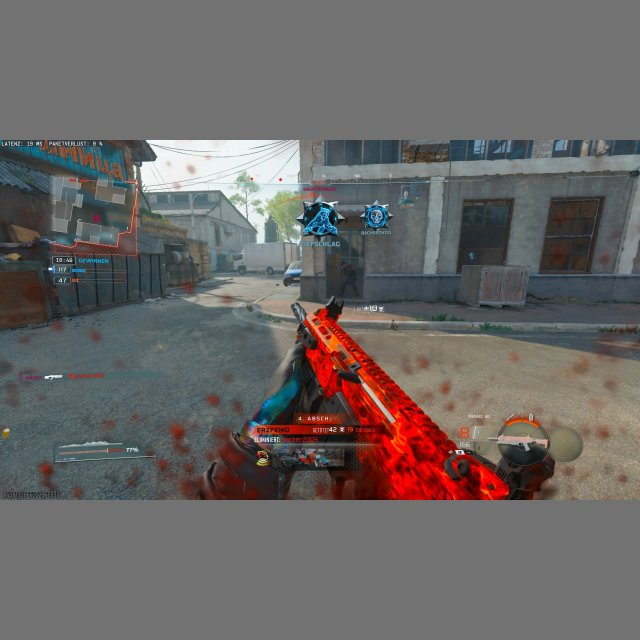player: (299, 197, 346, 235), (338, 260, 360, 298), (237, 263, 247, 275)
